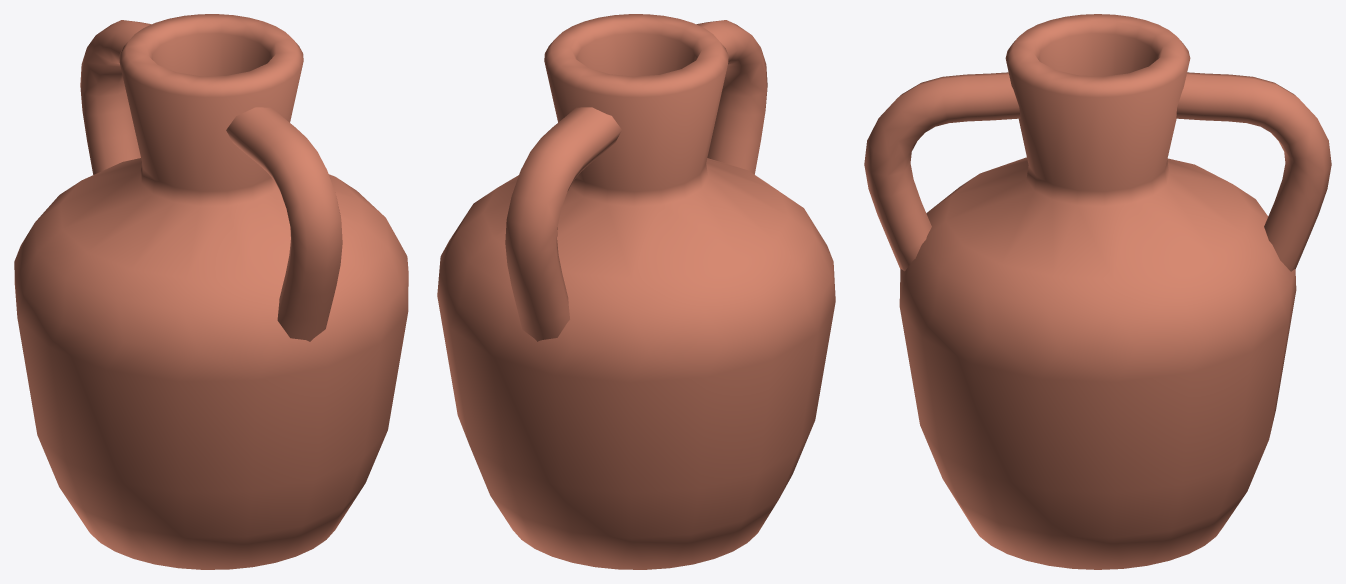
Rendered from ClayPot_03 1.fbx.
The picture shows the model from 3 angles, left to right: view 1: azimuth 30°, elevation 25°; view 2: azimuth 150°, elevation 25°; view 3: azimuth 270°, elevation 25°; orthographic projection.
Visible parts, largest first — view 1: ClayPot_03; view 2: ClayPot_03; view 3: ClayPot_03.
Part boxes in pixels (bbox=[...]): ClayPot_03: bbox=[14, 14, 408, 569]; ClayPot_03: bbox=[437, 14, 835, 569]; ClayPot_03: bbox=[864, 14, 1331, 569].
Size of the model in its own units: 30.67 by 39.85 by 36.15.
